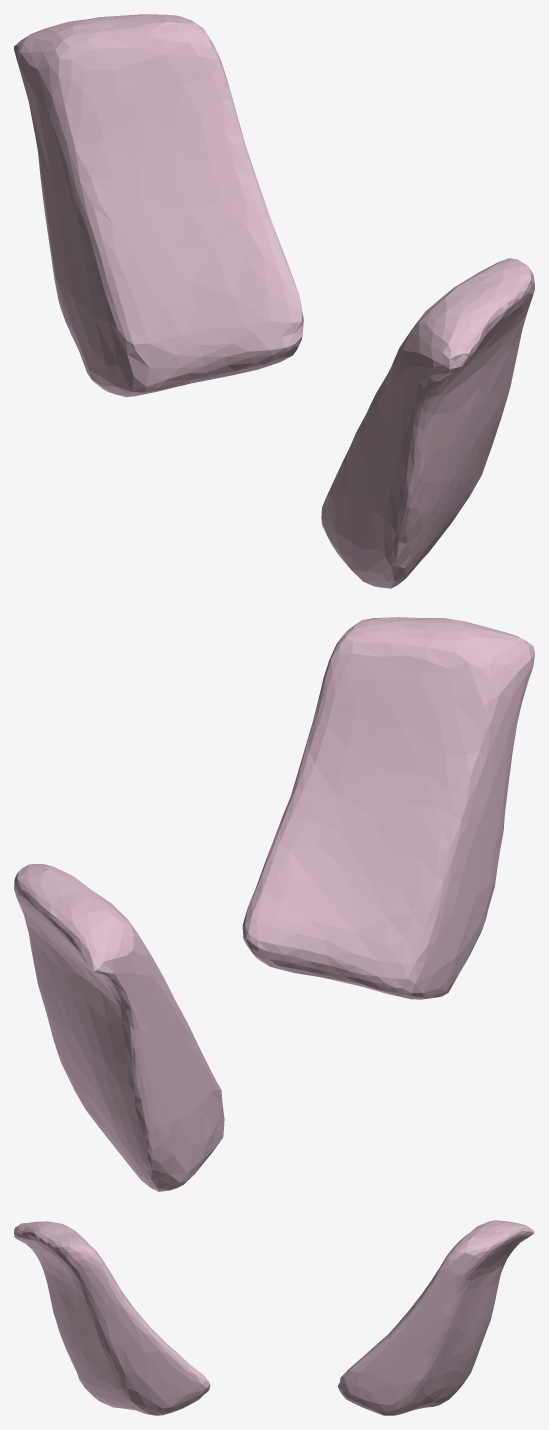
The picture shows the model from 3 angles, top to bottom: view 1: azimuth 30°, elevation 25°; view 2: azimuth 150°, elevation 25°; view 3: azimuth 270°, elevation 25°; orthographic projection. The views are drawn at different scales.
Visible parts, largest first — view 1: 1098.obj; view 2: 1098.obj; view 3: 1098.obj.
Boxes of the visible parts, <box> form: 1098.obj: <box>14,14,534,588</box>; 1098.obj: <box>14,617,534,1191</box>; 1098.obj: <box>14,1220,534,1415</box>.
Size of the model in its own units: 754 by 1571 by 3854.
